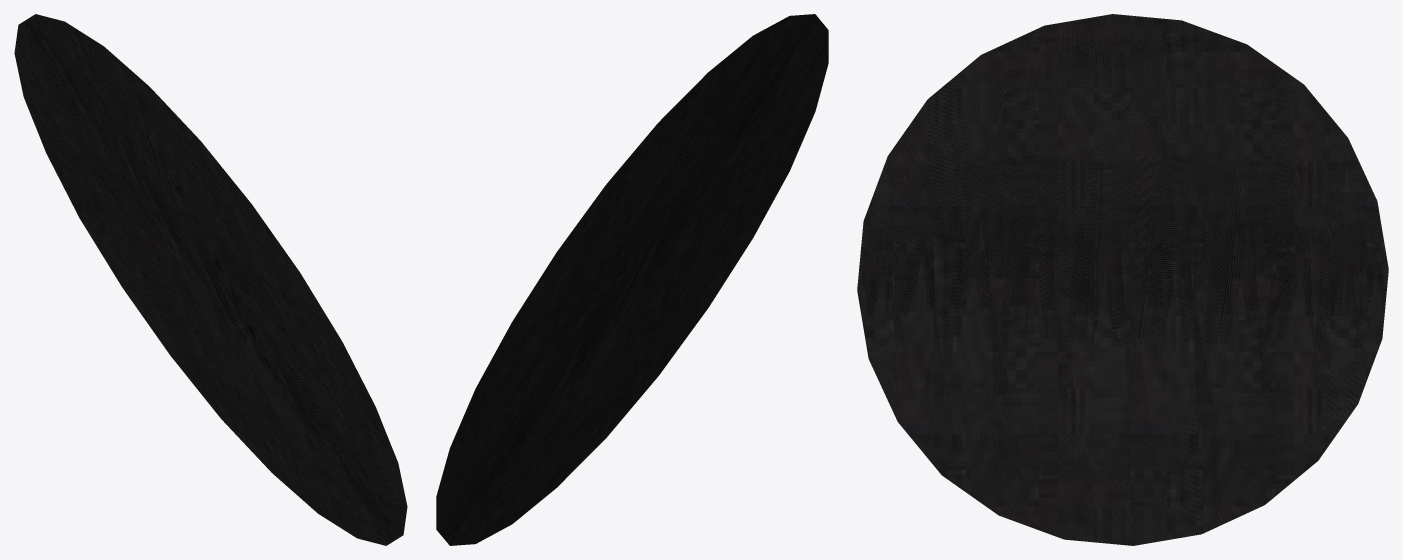
Rendered from original-100.obj.
3 views of the same model, side by side, from view 1: azimuth 30°, elevation 25°; view 2: azimuth 150°, elevation 25°; view 3: azimuth 270°, elevation 25° (orthographic). The views are drawn at different scales.
Parts seen in each view (by area): view 1: mesh45/mesh45-geometry/material_2#mesh45-geometry; view 2: mesh45/mesh45-geometry/material_2#mesh45-geometry; view 3: mesh45/mesh45-geometry/material_2#mesh45-geometry.
Part boxes in pixels (bbox=[...]): mesh45/mesh45-geometry/material_2#mesh45-geometry: bbox=[14, 14, 407, 545]; mesh45/mesh45-geometry/material_2#mesh45-geometry: bbox=[436, 14, 828, 545]; mesh45/mesh45-geometry/material_2#mesh45-geometry: bbox=[857, 14, 1388, 545].
Size of the model in its own units: 0.0201 by 0.0451 by 0.0494.
2 materials, 1 textured.
